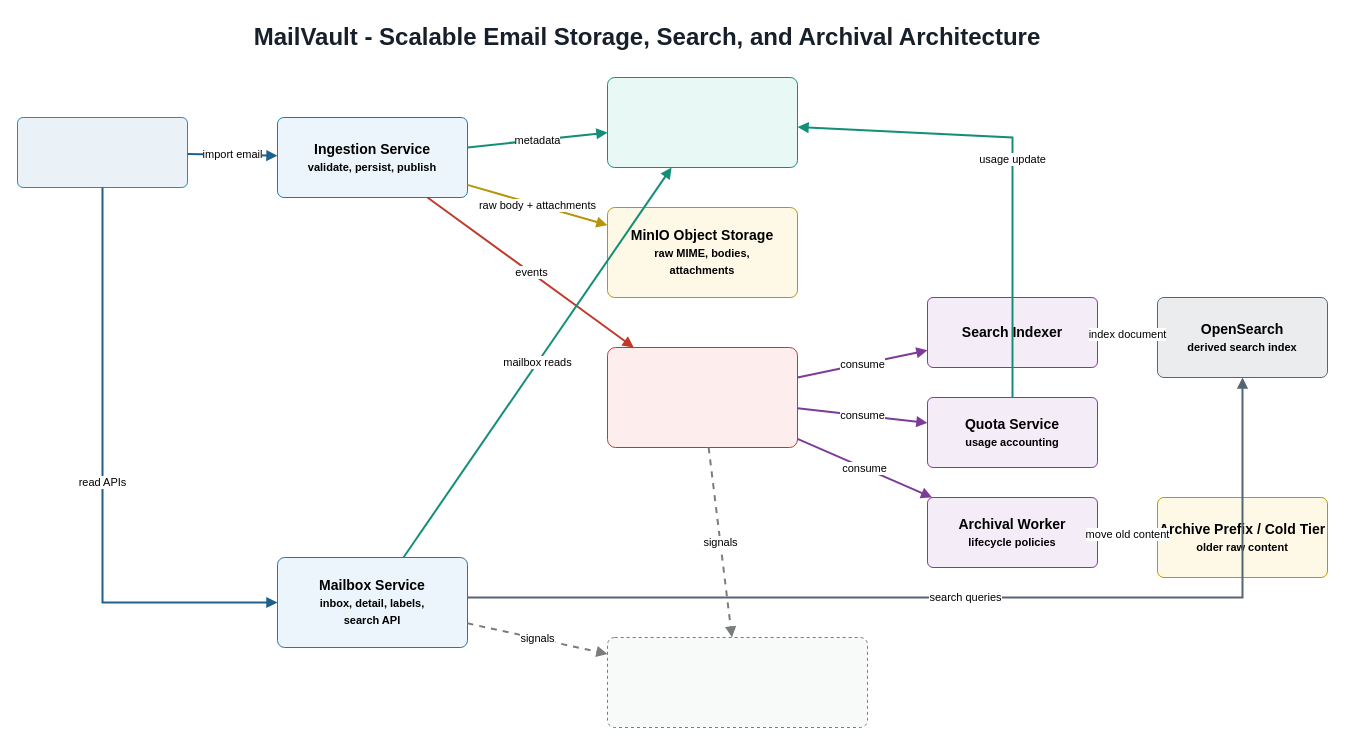
The diagram is 1345 pixels wide and 745 high, and some of its shapes have lost their labels. Here are the shapes that lost their labels. From the top down, the centre of each, then its label:
point 702,122: Postgres metadata, mailbox state, quota, outbox
point 102,152: Client / Import API
point 702,397: Kafka email.received quota events archival events
point 737,682: Observability logs, metrics, traces, queue lag, quota rejects
